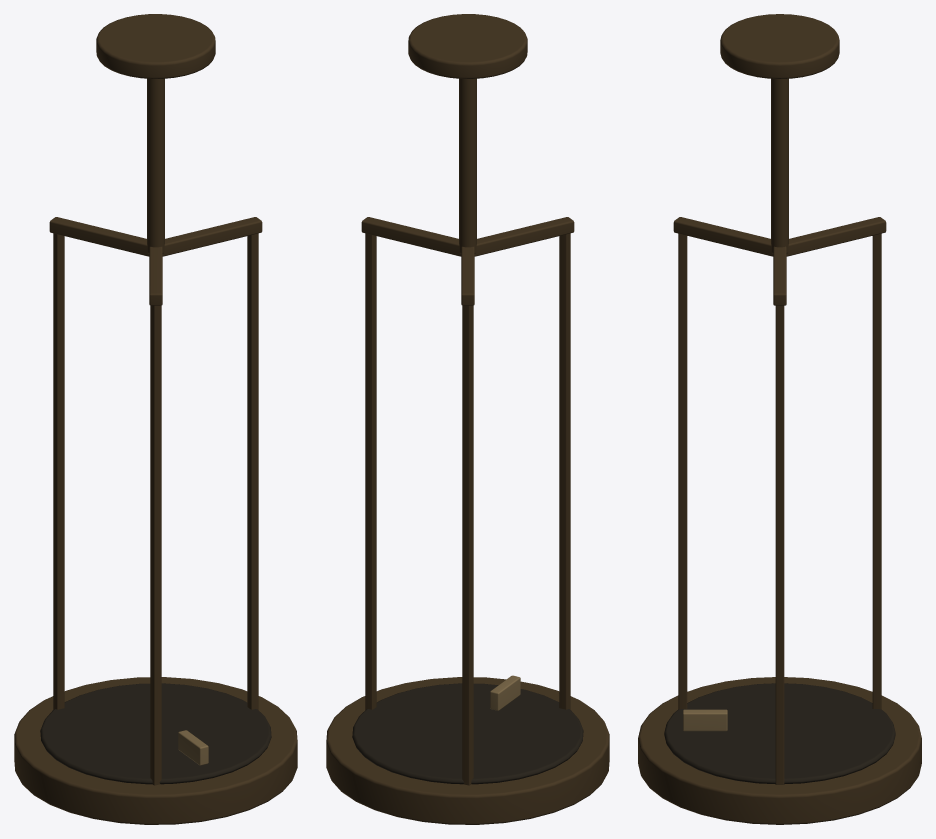
File: ArchiveOilLamp.fbx
3 renders of one model, left to right at view 1: azimuth 30°, elevation 25°; view 2: azimuth 150°, elevation 25°; view 3: azimuth 270°, elevation 25°, orthographic.
Visible parts, largest first — view 1: ArchiveOilLamp; view 2: ArchiveOilLamp; view 3: ArchiveOilLamp.
Boxes of the visible parts, bbox=[...] form: ArchiveOilLamp: bbox=[14, 14, 297, 824]; ArchiveOilLamp: bbox=[326, 14, 609, 824]; ArchiveOilLamp: bbox=[638, 14, 921, 824].
Size of the model in its own units: 38 by 110 by 38.
1 material, 1 textured.
